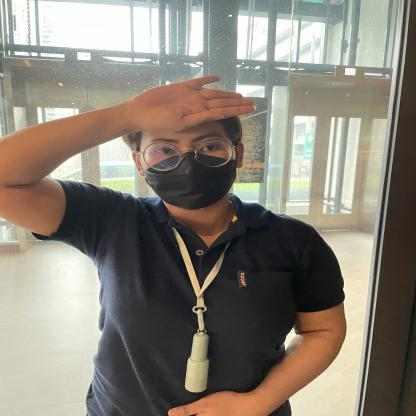Sick: (78, 52, 285, 142)
